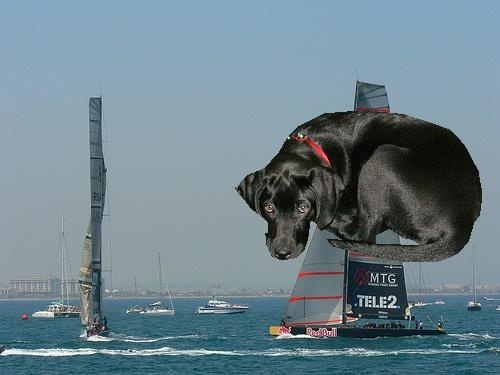tampered: (236, 112, 482, 262)
